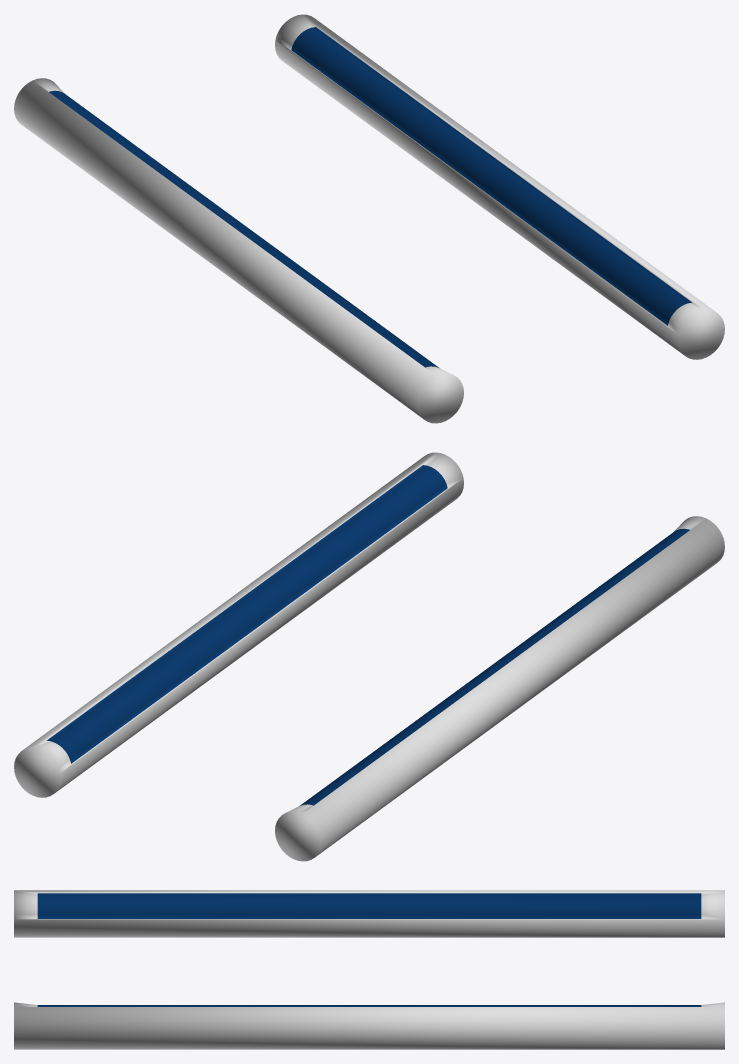
The model's file is Tracks.fbx.
3 renders of one model, top to bottom at view 1: azimuth 30°, elevation 25°; view 2: azimuth 150°, elevation 25°; view 3: azimuth 270°, elevation 25°, orthographic. The views are drawn at different scales.
Parts seen in each view (by area): view 1: Tracks; view 2: Tracks; view 3: Tracks.
Part boxes in pixels (bbox=[...]): Tracks: bbox=[14, 14, 724, 423]; Tracks: bbox=[14, 452, 724, 861]; Tracks: bbox=[14, 890, 724, 1049].
Bounding box in the file's own units: 330 × 50 × 750.
